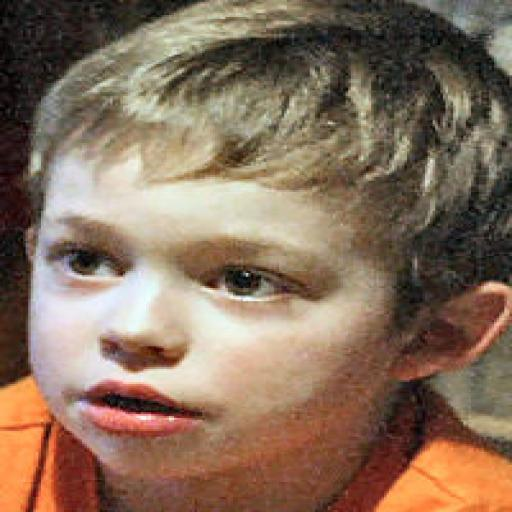Autism: (39, 18, 512, 496)
